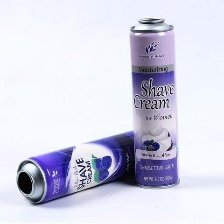aerosol_cans: (14, 114, 172, 207), (125, 15, 182, 190)
